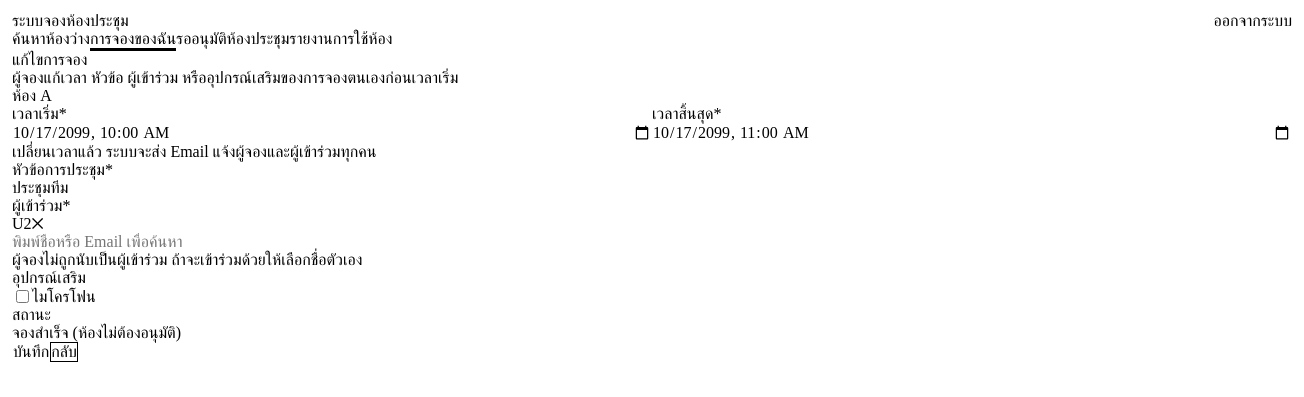
Test case: FE-mrr-004 edit booking page (UI-mrr-008) › error: AC-mrr-061 the mail not going out shows the reason and keeps the form
Expected: the field with test id "ui-mrr-008-ent-007-title" holds "ประชุมทีม", top-left (12, 179), bottom-right (1292, 197)
Replace the text in the field with test id "ui-mrr-008-ent-007-start-at" with "2099-10-17T14:00". click: point(332, 133)
box: top-left (12, 123), bottom-right (652, 143)
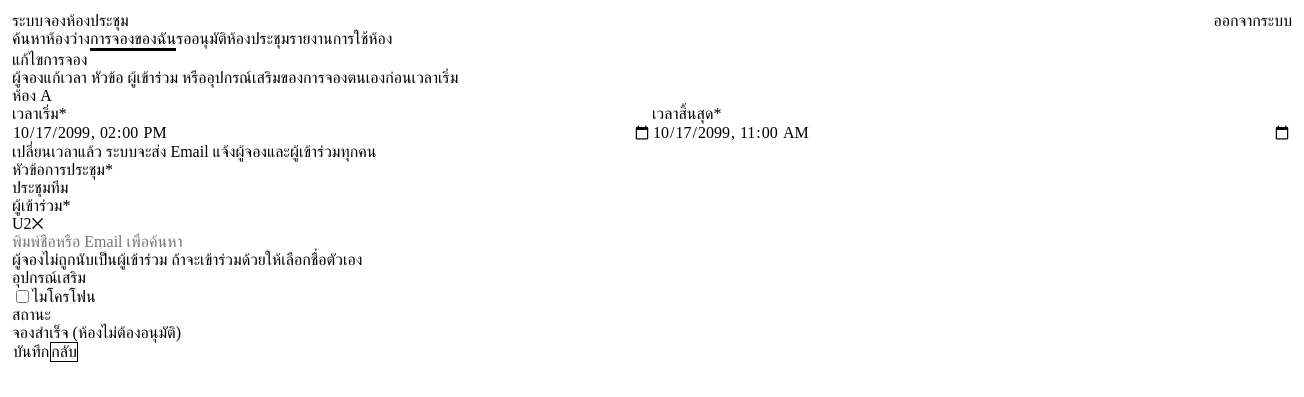
Replace the text in the field with test id "ui-mrr-008-ent-007-end-at" with "2099-10-17T15:00". click: point(972, 133)
box: top-left (652, 123), bottom-right (1292, 143)
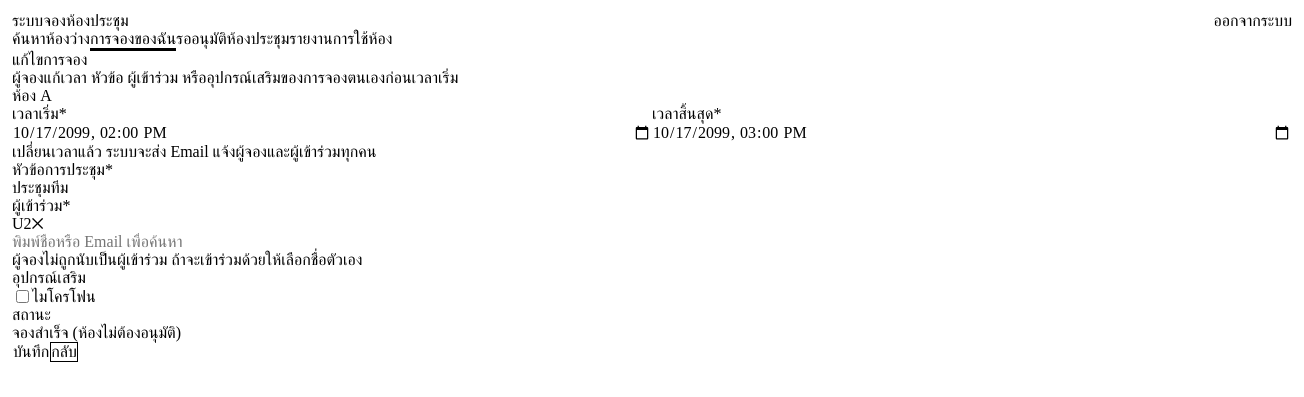
Click the button with test id "ui-mrr-008-save". click: point(31, 352)
box: top-left (12, 342), bottom-right (50, 362)
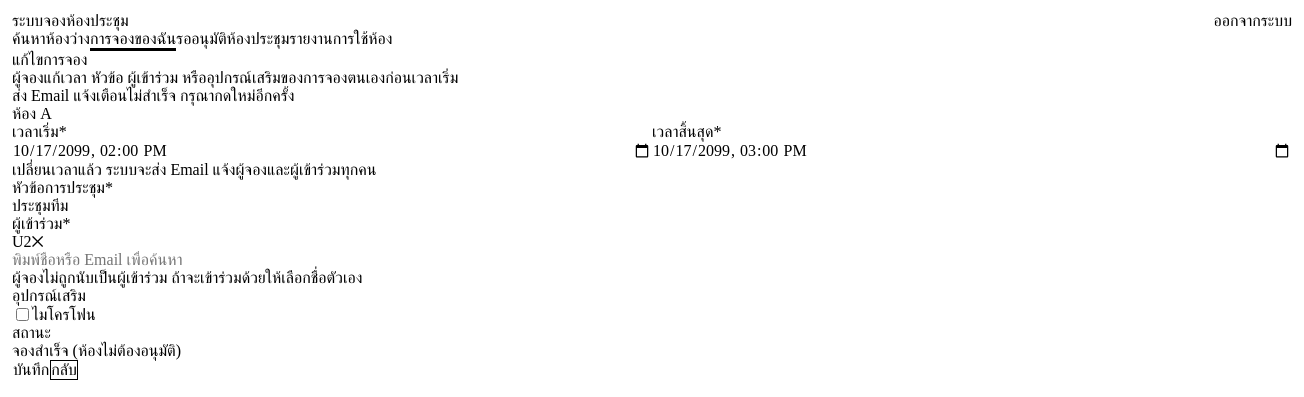
Expected: the button with test id "ui-mrr-008-save" is enabled, top-left (12, 360), bottom-right (50, 380)
Expected: the message reads "ส่ง Email แจ้งเตือนไม่สำเร็จ กรุณากดใหม่อีกครั้ง", top-left (12, 87), bottom-right (294, 104)
